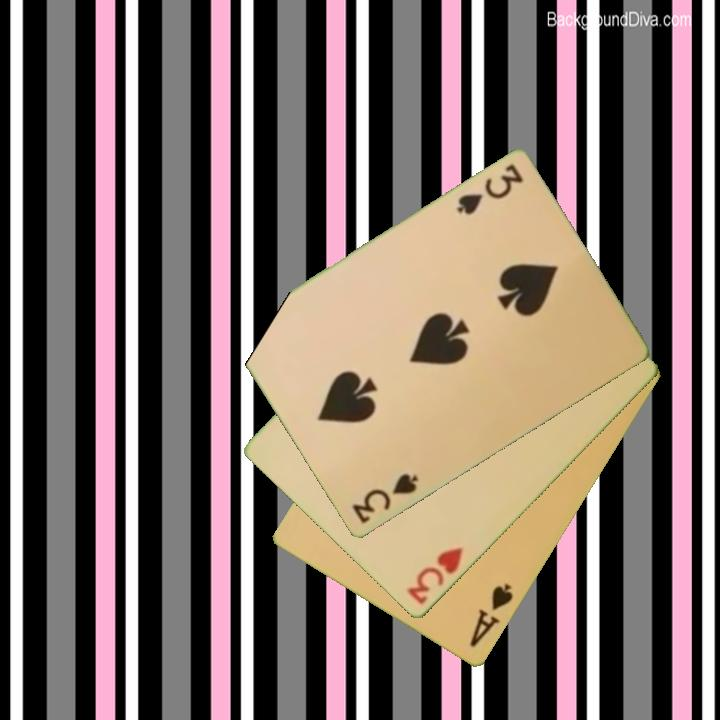3h: (403, 543, 467, 608)
3s: (453, 161, 526, 219), (348, 470, 422, 527)
As: (466, 580, 516, 651)
